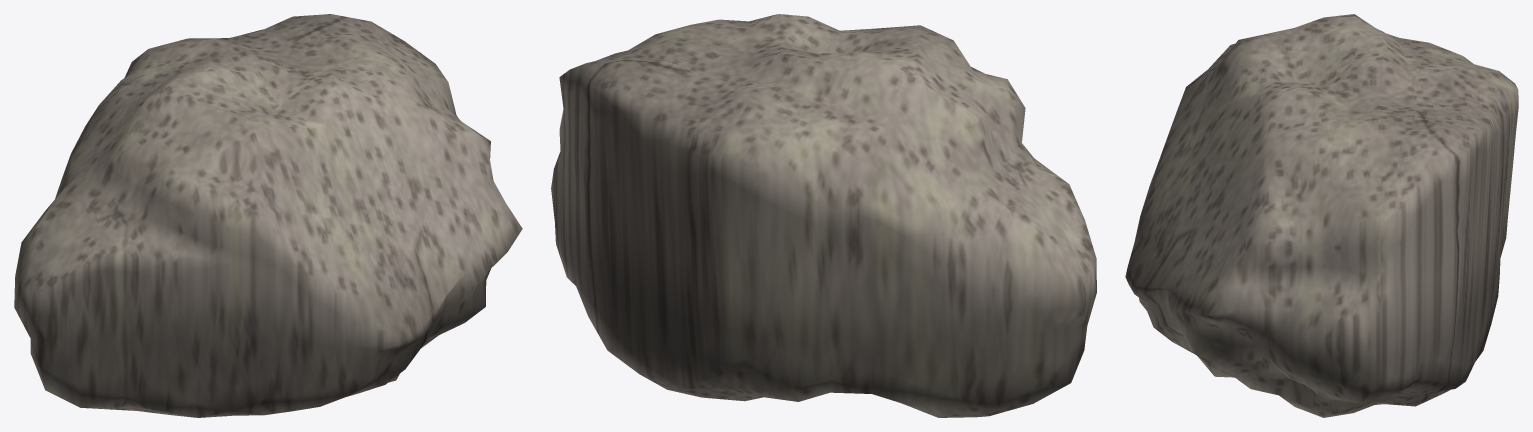
File: rock-granite-0.lite.glb
The picture shows the model from 3 angles, left to right: view 1: azimuth 30°, elevation 25°; view 2: azimuth 150°, elevation 25°; view 3: azimuth 270°, elevation 25°; orthographic projection. The views are drawn at different scales.
Visible parts, largest first — view 1: model; view 2: model; view 3: model.
Boxes of the visible parts, x1,y1,x2,y2 form: model: [14, 14, 522, 417]; model: [551, 14, 1096, 417]; model: [1125, 14, 1518, 417].
Bounding box in the file's own units: 1 × 0.6415 × 0.7277.
Materials: 1 (1 with a texture image).
